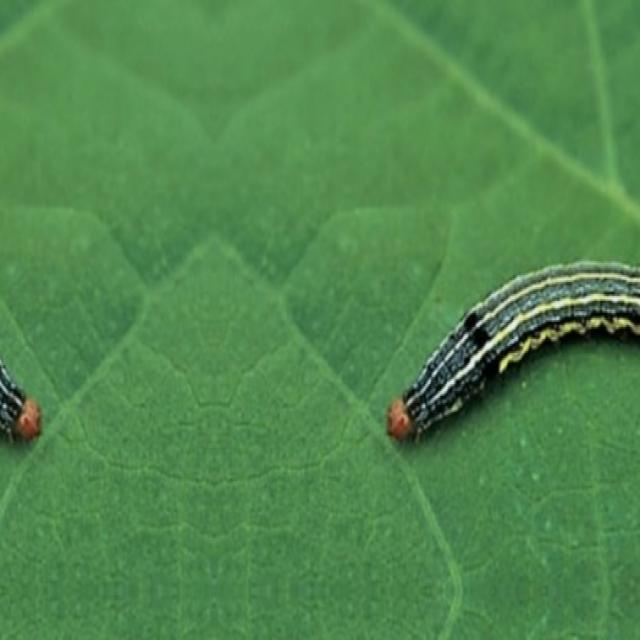armyworm: (385, 256, 639, 445)
